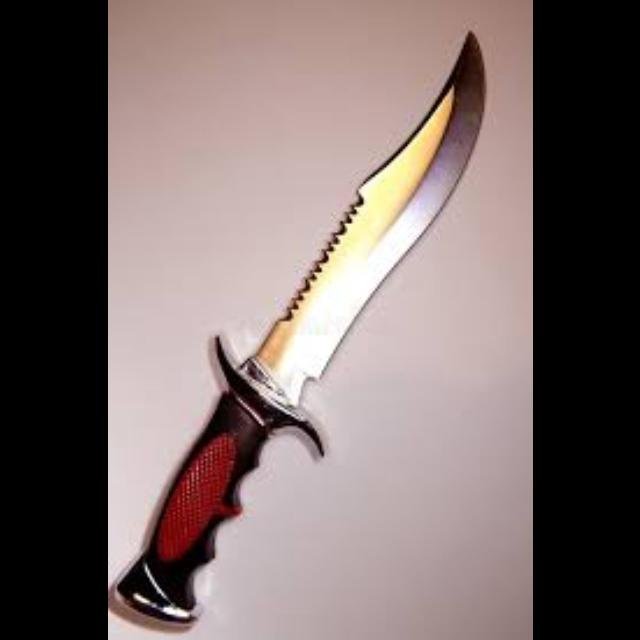knife: (112, 29, 486, 622)
